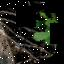Purslane: (0, 0, 64, 64)
